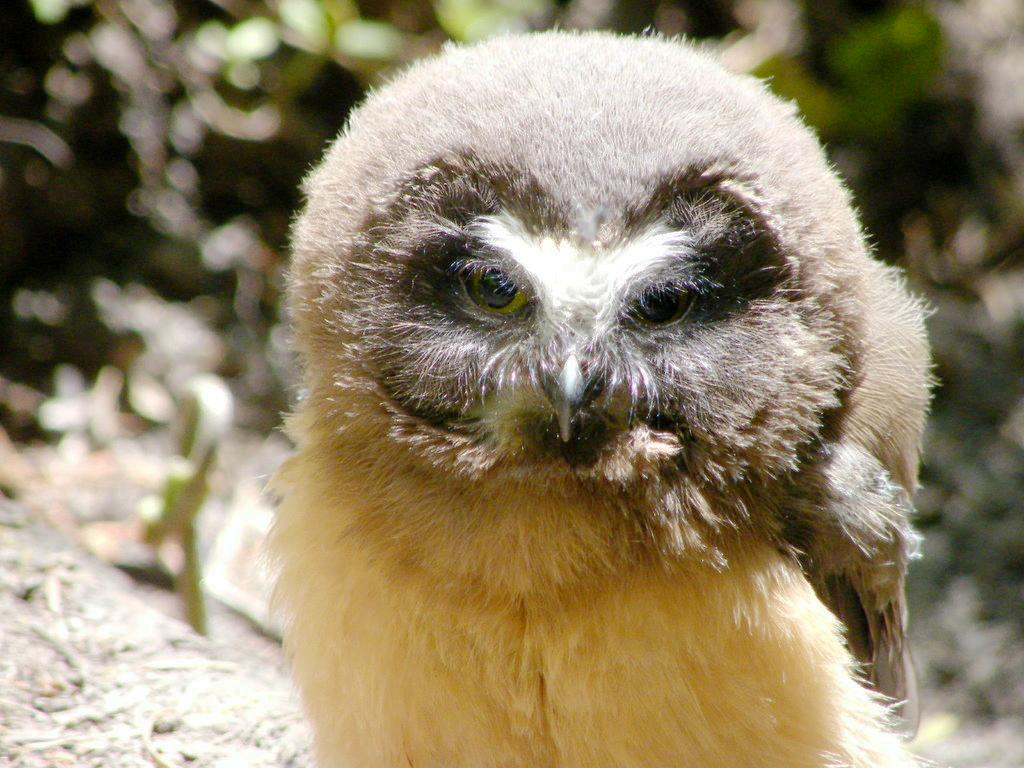Owl: (260, 24, 942, 768)
